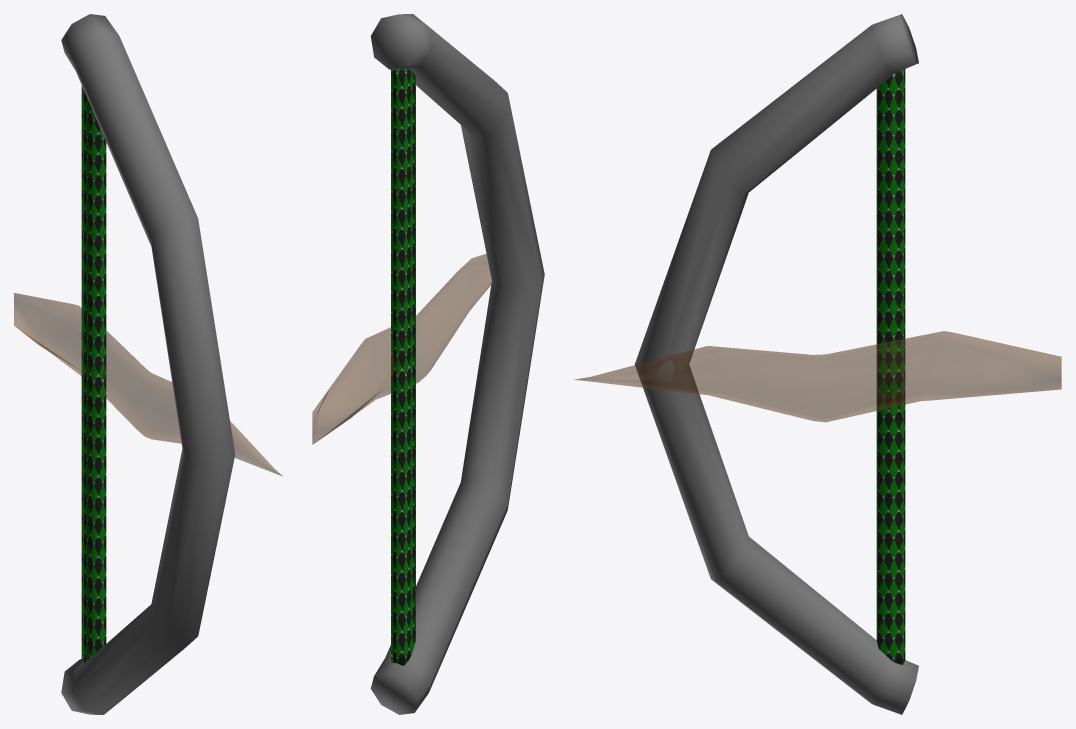
The model's file is weapon_bow.glb.
The picture shows the model from 3 angles, left to right: view 1: azimuth 30°, elevation 25°; view 2: azimuth 150°, elevation 25°; view 3: azimuth 270°, elevation 25°; orthographic projection.
Parts seen in each view (by area): view 1: Bow_Bow, Bow_String, Bow_Arrow; view 2: Bow_Bow, Bow_String, Bow_Arrow; view 3: Bow_Bow, Bow_Arrow, Bow_String.
Boxes of the visible parts, box(x1,y1,x2,y2) form: Bow_Bow: box(61, 14, 235, 714); Bow_String: box(81, 85, 106, 663); Bow_Arrow: box(14, 293, 282, 476); Bow_Bow: box(370, 14, 544, 714); Bow_String: box(391, 69, 415, 665); Bow_Arrow: box(312, 254, 491, 444); Bow_Bow: box(634, 14, 918, 714); Bow_Arrow: box(574, 331, 1061, 422); Bow_String: box(876, 69, 905, 664).
Bounding box in the file's own units: 0.4035 × 4.81 × 3.05.
3 materials, 3 textured.
